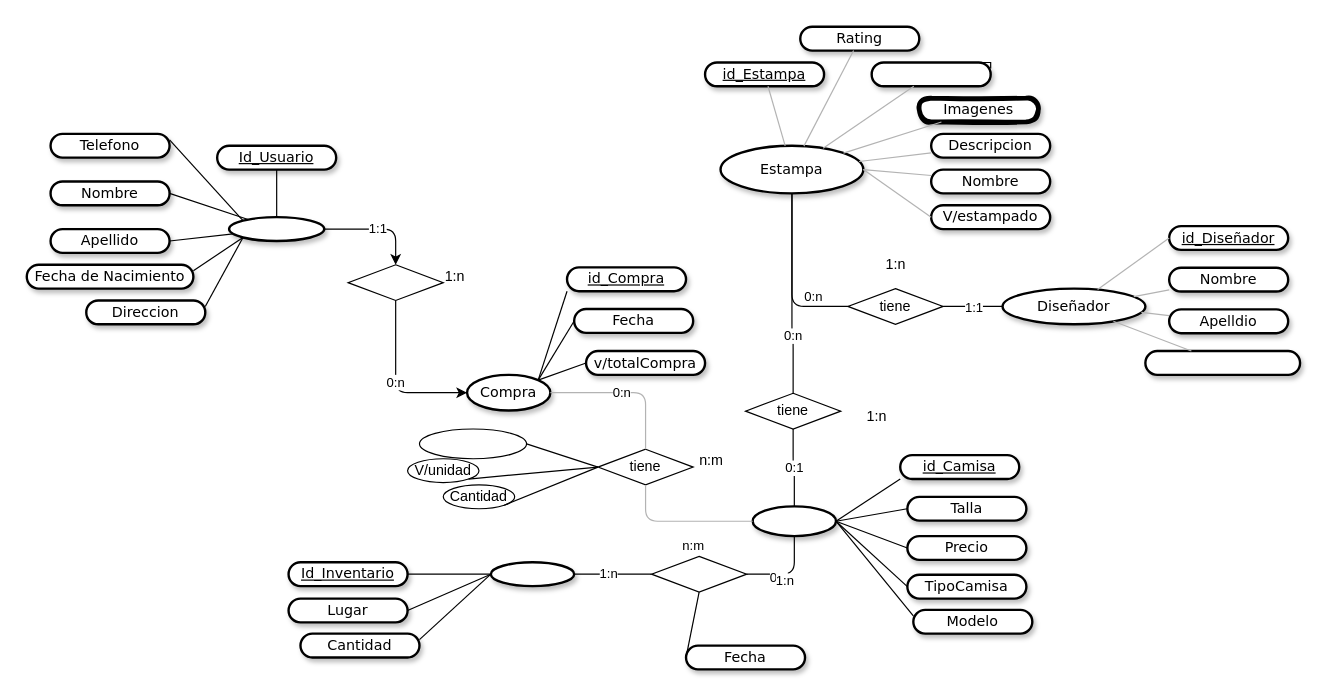
The diagram is 1328 pixels wide and 699 high, and some of its shapes have lost their labels. The shapes that lost their labels are listed below. From the top down, each one's centre as x and y in pixels, then its label:
At [931,75]: "Tema".
At [277,230]: "Usuario".
At [395,282]: "Realiza".
At [1223,364]: "Fecha NAcimiento".
At [472,443]: "V/TotalArticulo".
At [795,522]: "Camisa".
At [533,575]: "inventario".
At [698,573]: "esta".
